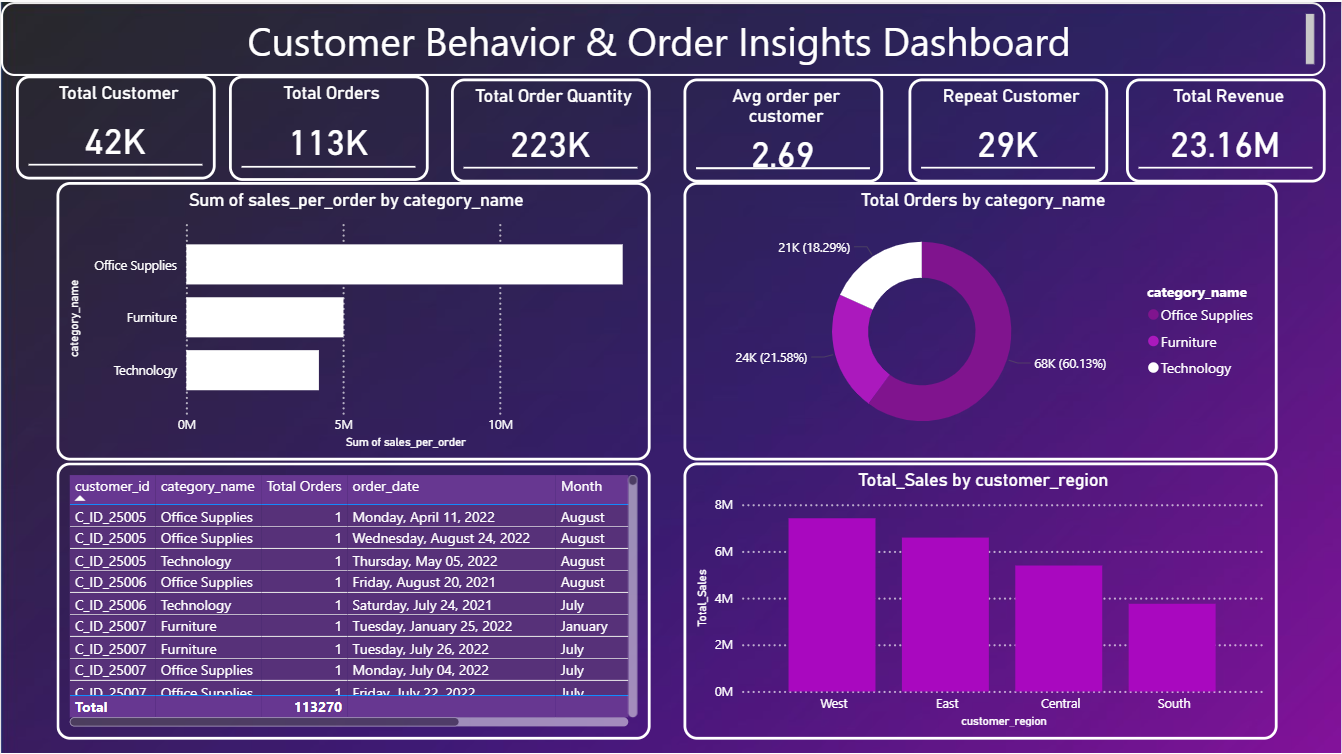

The dashboard page shown, as its layout file describes it:
{"tool":"powerbi","page":{"name":"Page 2","canvas":[1280,720],"ordinal":1},"visuals":[{"type":"tableEx","fields":{"Values":["ecommerce_data.customer_id","ecommerce_data.category_name","ecommerce_data.Total Orders","ecommerce_data.order_date","ecommerce_data.ship_date.Variation.Date Hierarchy.Month","ecommerce_data.ship_date.Variation.Date Hierarchy.Day","ecommerce_data.Total Profit","ecommerce_data.Total Revenue"]},"box":[53.6,439.4,567,264.6],"z":0},{"type":"cardVisual","title":"Total Customer","fields":{"Data":["ecommerce_data.Total_Customers"]},"box":[14.2,70.9,190.6,99.2],"z":1},{"type":"cardVisual","title":"Total Orders","fields":{"Data":["ecommerce_data.Total Orders"]},"box":[217.4,70.9,190.6,100.8],"z":2},{"type":"cardVisual","title":"Avg order per customer","fields":{"Data":["ecommerce_data.Avg Orders Per Customer"]},"box":[652.1,72.5,190.6,99.2],"z":3},{"type":"cardVisual","title":"Total Order Quantity","fields":{"Data":["ecommerce_data.Total Quantity Sold"]},"box":[430,72.5,190.6,99.2],"z":5},{"type":"cardVisual","title":"Repeat Customer","fields":{"Data":["ecommerce_data.Repeat Customers"]},"box":[866.3,72.5,190.6,99.2],"z":6},{"type":"cardVisual","title":"Total Revenue","fields":{"Data":["ecommerce_data.Total Revenue"]},"box":[1074.2,72.5,190.6,99.2],"z":7},{"type":"clusteredBarChart","fields":{"Category":["ecommerce_data.category_name"],"Y":["Sum(ecommerce_data.sales_per_order)"]},"box":[53.6,171.7,567,266.2],"z":8},{"type":"donutChart","fields":{"Category":["ecommerce_data.category_name"],"Y":["ecommerce_data.Total Orders"]},"box":[652.1,171.7,567,266.2],"z":9},{"type":"columnChart","fields":{"Category":["ecommerce_data.customer_region"],"Y":["ecommerce_data.Total_Sales"]},"box":[652.1,439.4,567,264.6],"z":10},{"type":"textbox","box":[0,0,1264.8,70.9],"z":11}]}

Visuals, with their boxes in screenshot pixels (x1, y1, x2, y2), scaled from the page's 1280x720 canvas onto the 1342x754 screenshot:
tableEx - ecommerce_data.customer_id x ecommerce_data.category_name: pyautogui.locateOnScreen(56, 460, 651, 737)
"Total Customer" cardVisual: pyautogui.locateOnScreen(15, 74, 215, 178)
"Total Orders" cardVisual: pyautogui.locateOnScreen(228, 74, 428, 180)
"Avg order per customer" cardVisual: pyautogui.locateOnScreen(684, 76, 884, 180)
"Total Order Quantity" cardVisual: pyautogui.locateOnScreen(451, 76, 651, 180)
"Repeat Customer" cardVisual: pyautogui.locateOnScreen(908, 76, 1108, 180)
"Total Revenue" cardVisual: pyautogui.locateOnScreen(1126, 76, 1326, 180)
clusteredBarChart - ecommerce_data.category_name x Sum(ecommerce_data.sales_per_order): pyautogui.locateOnScreen(56, 180, 651, 459)
donutChart - ecommerce_data.category_name x ecommerce_data.Total Orders: pyautogui.locateOnScreen(684, 180, 1278, 459)
columnChart - ecommerce_data.customer_region x ecommerce_data.Total_Sales: pyautogui.locateOnScreen(684, 460, 1278, 737)
textbox: pyautogui.locateOnScreen(0, 0, 1326, 74)
